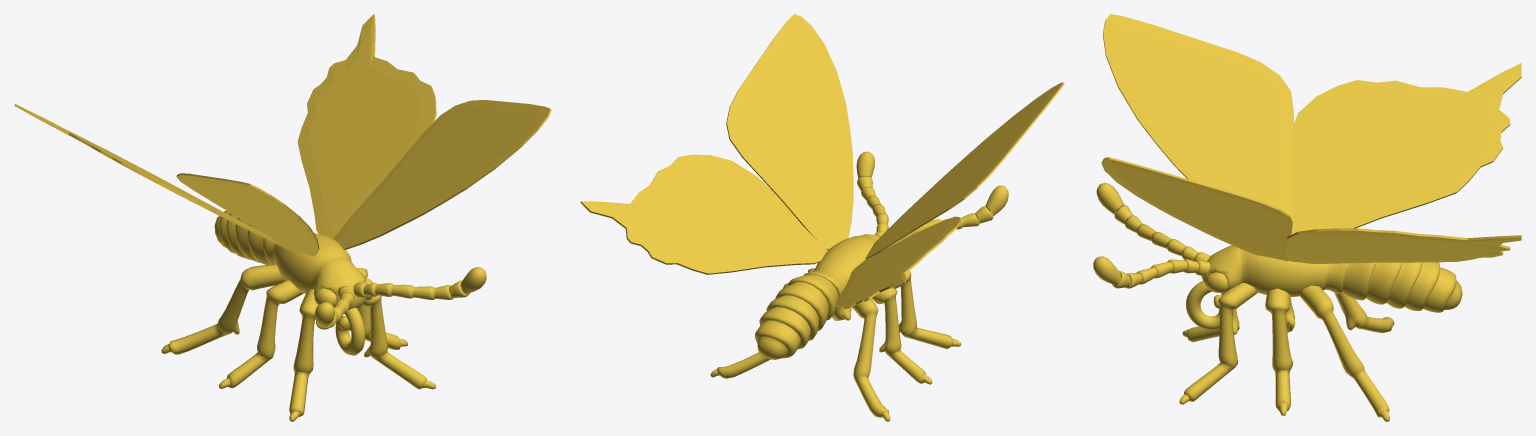
Rendered from gold-butterfly.fbx.
3 renders of one model, left to right at view 1: azimuth 30°, elevation 25°; view 2: azimuth 150°, elevation 25°; view 3: azimuth 270°, elevation 25°, orthographic. The views are drawn at different scales.
Visible parts, largest first — view 1: 19920_Eastern_Tiger_Swallowtail_Butterfly_v2_NEW, Plane.001, Plane, Plane.002, Plane.003; view 2: Plane, Plane.001, 19920_Eastern_Tiger_Swallowtail_Butterfly_v2_NEW, Plane.002, Plane.003; view 3: Plane.003, Plane.002, 19920_Eastern_Tiger_Swallowtail_Butterfly_v2_NEW, Plane, Plane.001.
Part boxes in pixels (box(x1,y1,x2,y2)): 19920_Eastern_Tiger_Swallowtail_Butterfly_v2_NEW: box(161, 210, 486, 421); Plane.001: box(297, 14, 436, 238); Plane: box(334, 100, 551, 249); Plane.002: box(176, 173, 319, 256); Plane.003: box(14, 104, 289, 249); Plane: box(726, 14, 853, 250); Plane.001: box(580, 154, 827, 274); 19920_Eastern_Tiger_Swallowtail_Butterfly_v2_NEW: box(710, 151, 1008, 421); Plane.002: box(865, 82, 1064, 259); Plane.003: box(835, 216, 960, 308); Plane.003: box(1291, 63, 1521, 234); Plane.002: box(1102, 14, 1293, 220); 19920_Eastern_Tiger_Swallowtail_Butterfly_v2_NEW: box(1093, 182, 1462, 421); Plane: box(1101, 157, 1292, 261); Plane.001: box(1284, 228, 1521, 263).
Bounding box in the file's own units: 1187 × 909 × 1222.
